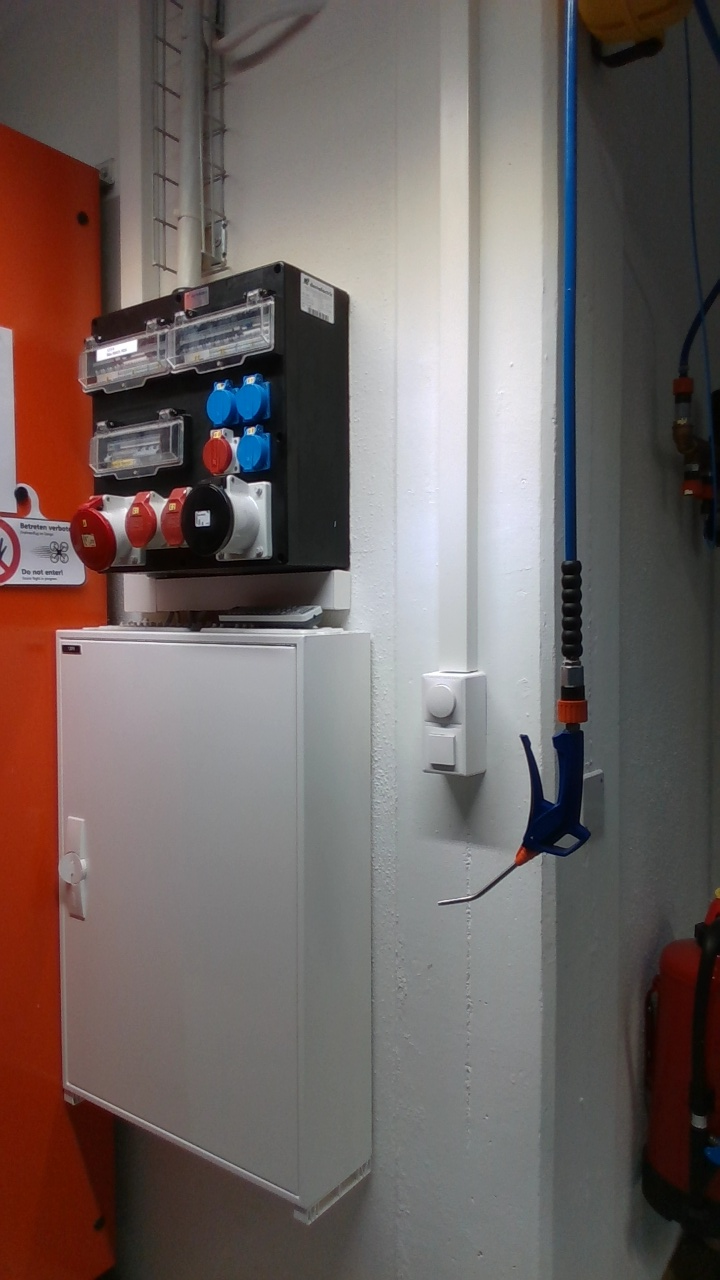Light_Switch: (420, 674, 468, 728), (418, 725, 467, 775)
